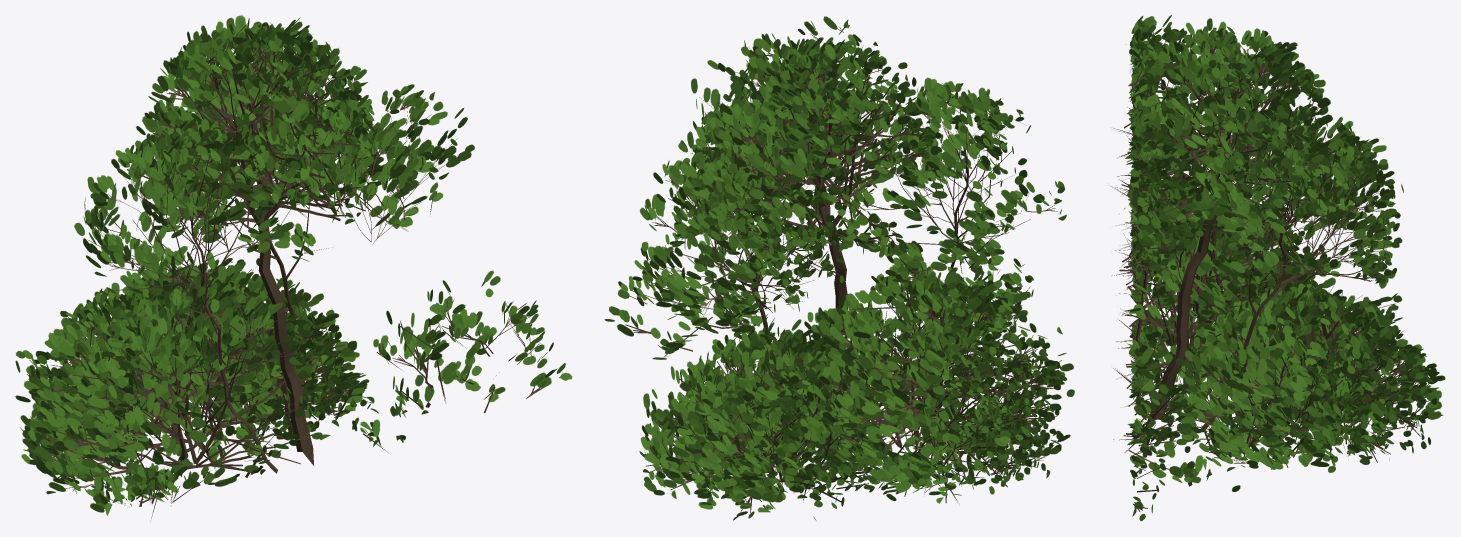
The picture shows the model from 3 angles, left to right: view 1: azimuth 30°, elevation 25°; view 2: azimuth 150°, elevation 25°; view 3: azimuth 270°, elevation 25°; orthographic projection. The views are drawn at different scales.
Parts seen in each view (by area): view 1: oak 01.001_trunk_Mat.001_0.234; view 2: oak 01.001_trunk_Mat.001_0.234; view 3: oak 01.001_trunk_Mat.001_0.234.
Part boxes in pixels (<box>): oak 01.001_trunk_Mat.001_0.234: <box>15,15,572,518</box>; oak 01.001_trunk_Mat.001_0.234: <box>604,16,1074,521</box>; oak 01.001_trunk_Mat.001_0.234: <box>1110,15,1445,521</box>.
Size of the model in its own units: 4.14 by 3.44 by 2.58.
Materials: 2 (1 with a texture image).
